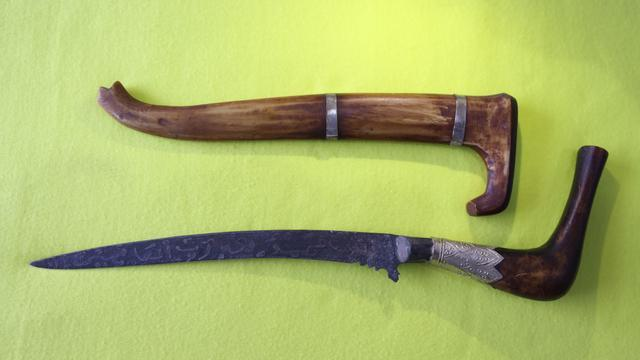facao: (11, 155, 592, 307), (88, 52, 530, 200)
